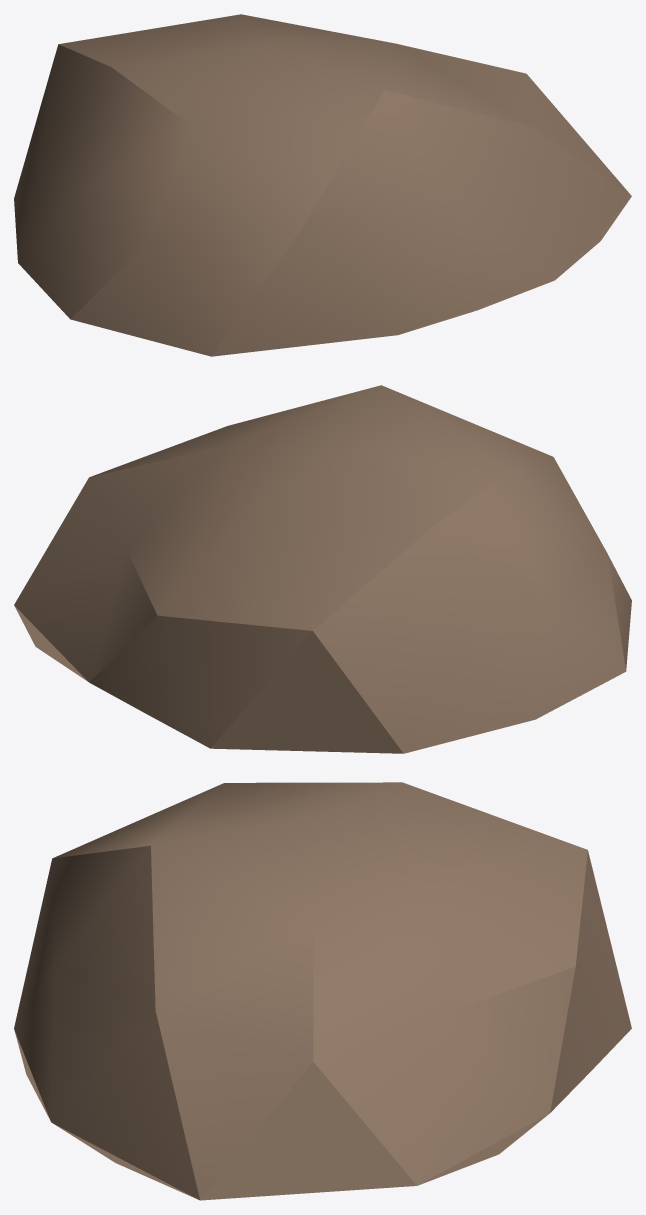
The model's file is roca2.glb.
3 views of the same model, one above another, from view 1: azimuth 30°, elevation 25°; view 2: azimuth 150°, elevation 25°; view 3: azimuth 270°, elevation 25° (orthographic). The views are drawn at different scales.
Visible parts, largest first — view 1: roca2; view 2: roca2; view 3: roca2.
Part boxes in pixels (x1,y1,x2,y2): roca2: (14, 14, 631, 356); roca2: (14, 385, 631, 753); roca2: (14, 782, 631, 1200).
Size of the model in its own units: 0.7062 by 0.2366 by 0.6223.
